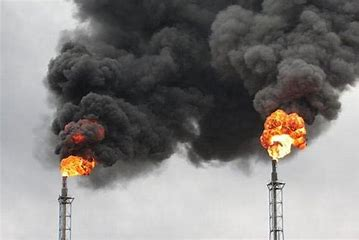smoke: (40, 1, 190, 155), (193, 1, 359, 114)
